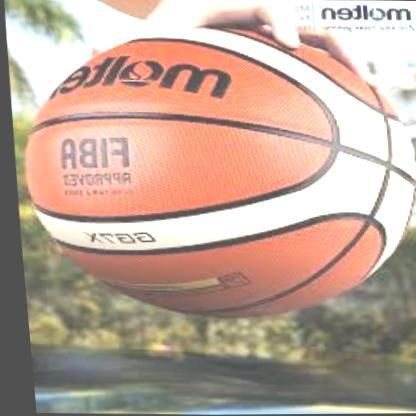basketball: (9, 26, 416, 323)
